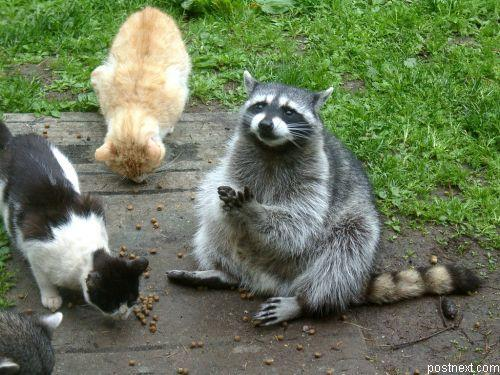raccoon: (167, 68, 493, 329)
